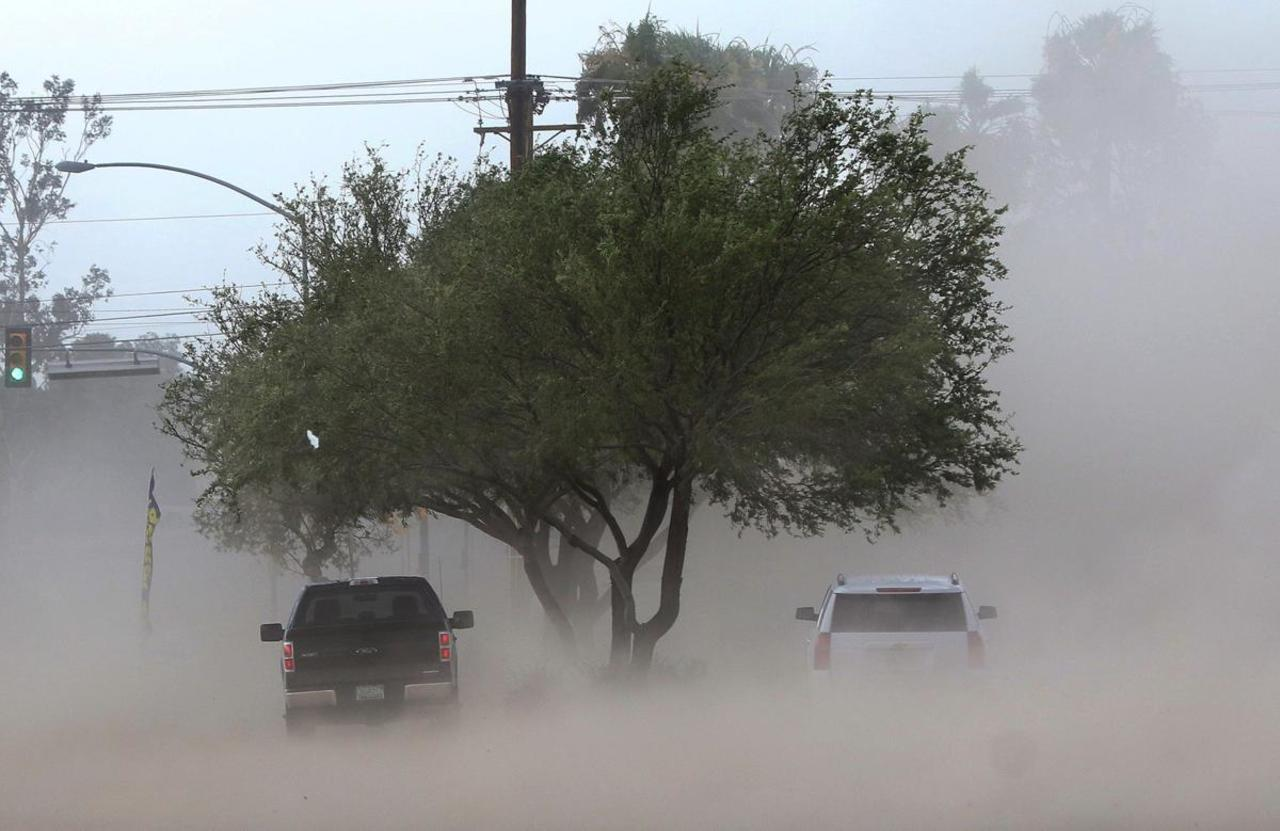car: (255, 571, 475, 734), (790, 569, 1005, 699)
